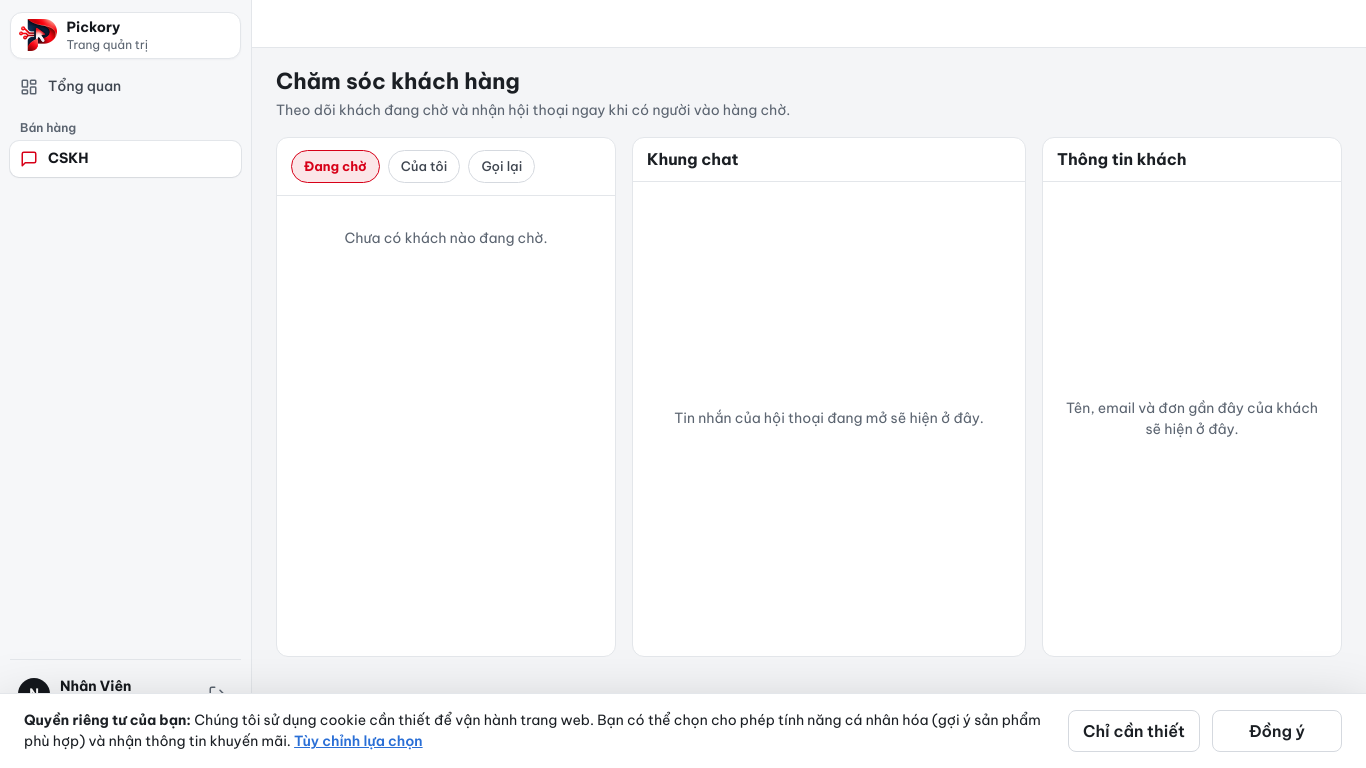
hàng chờ › tab Gọi lại chỉ hiện yêu cầu pending
The width and height of the screenshot is (1366, 768).
Click the tab "Gọi lại".
click(502, 166)  # box top-left (468, 150), bottom-right (535, 183)
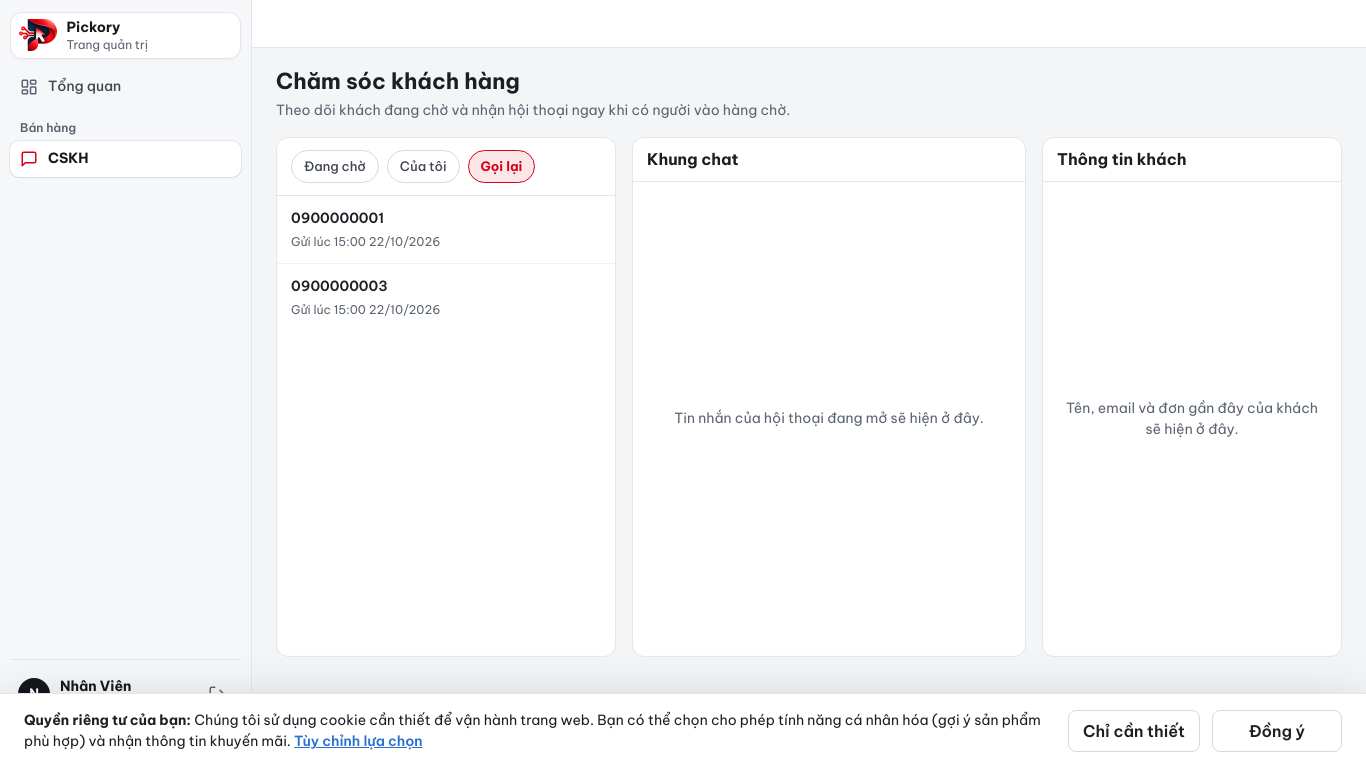
expect the text "0900000003" is shown: met, box top-left (291, 277), bottom-right (388, 295)
